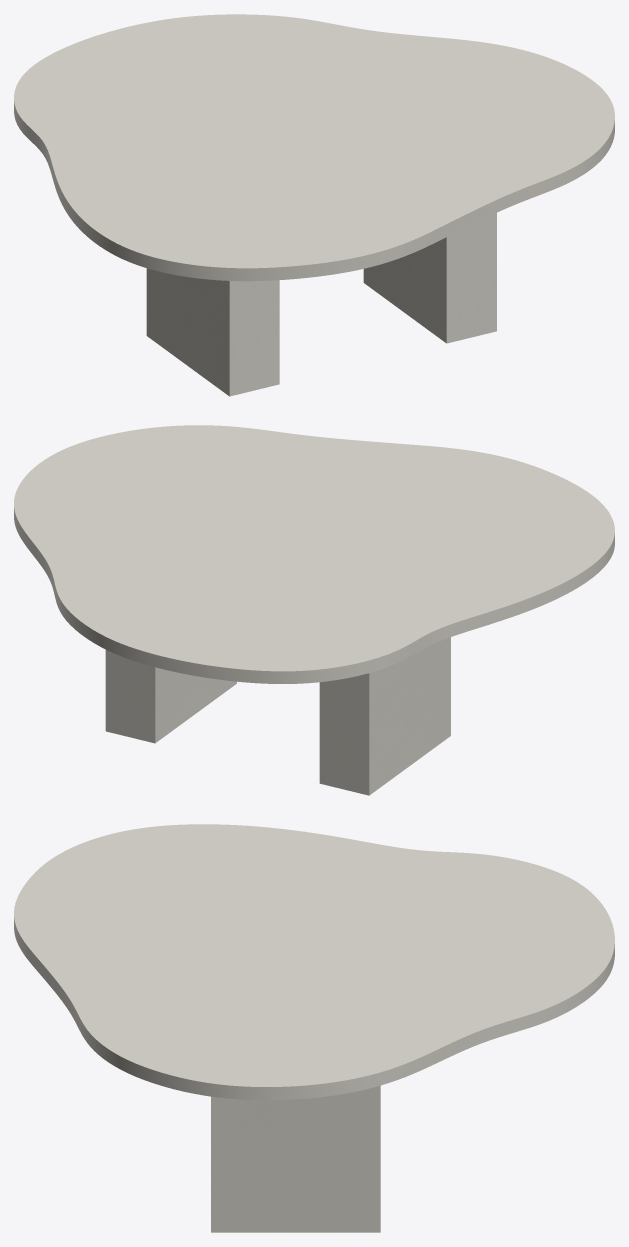
Rendered from pale_topone_standard_ridge.glb.
3 renders of one model, top to bottom at view 1: azimuth 30°, elevation 25°; view 2: azimuth 150°, elevation 25°; view 3: azimuth 270°, elevation 25°, orthographic. The views are drawn at different scales.
Parts seen in each view (by area): view 1: standard_topone, ridge; view 2: standard_topone, ridge; view 3: standard_topone, ridge.
Part boxes in pixels (x1,y1,x2,y2): standard_topone: [14, 14, 614, 281]; ridge: [146, 213, 496, 396]; standard_topone: [14, 425, 614, 683]; ridge: [105, 637, 450, 795]; standard_topone: [14, 824, 614, 1100]; ridge: [211, 1085, 380, 1232].
Size of the model in its own units: 6.83 by 2.5 by 6.6.
Materials: 1 (1 with a texture image).
